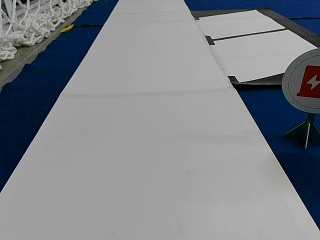battery: (283, 49, 319, 112)
